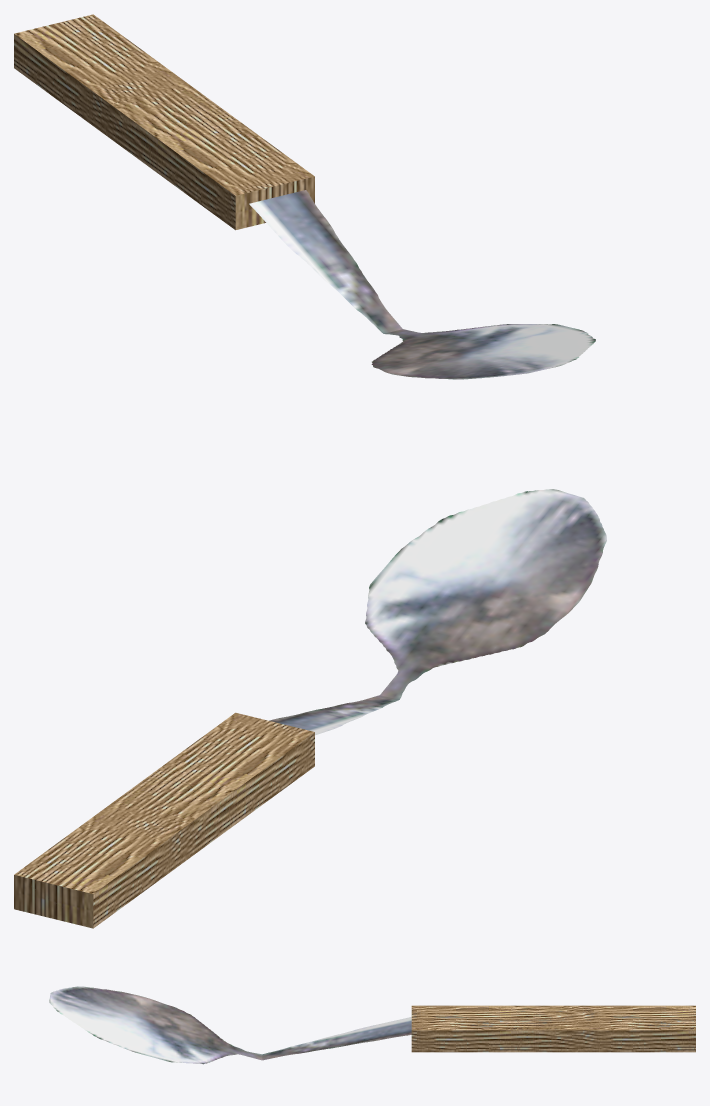
The model's file is Cuchara.fbx.
3 views of the same model, one above another, from view 1: azimuth 30°, elevation 25°; view 2: azimuth 150°, elevation 25°; view 3: azimuth 270°, elevation 25° (orthographic). The views are drawn at different scales.
Visible parts, largest first — view 1: Cube.033; view 2: Cube.033; view 3: Cube.033.
Part boxes in pixels (box(x1,y1,x2,y2)): Cube.033: box(14, 14, 595, 379); Cube.033: box(14, 489, 606, 928); Cube.033: box(49, 986, 695, 1064).
Size of the model in its own units: 138 by 59.8 by 571.
2 materials, 2 textured.
